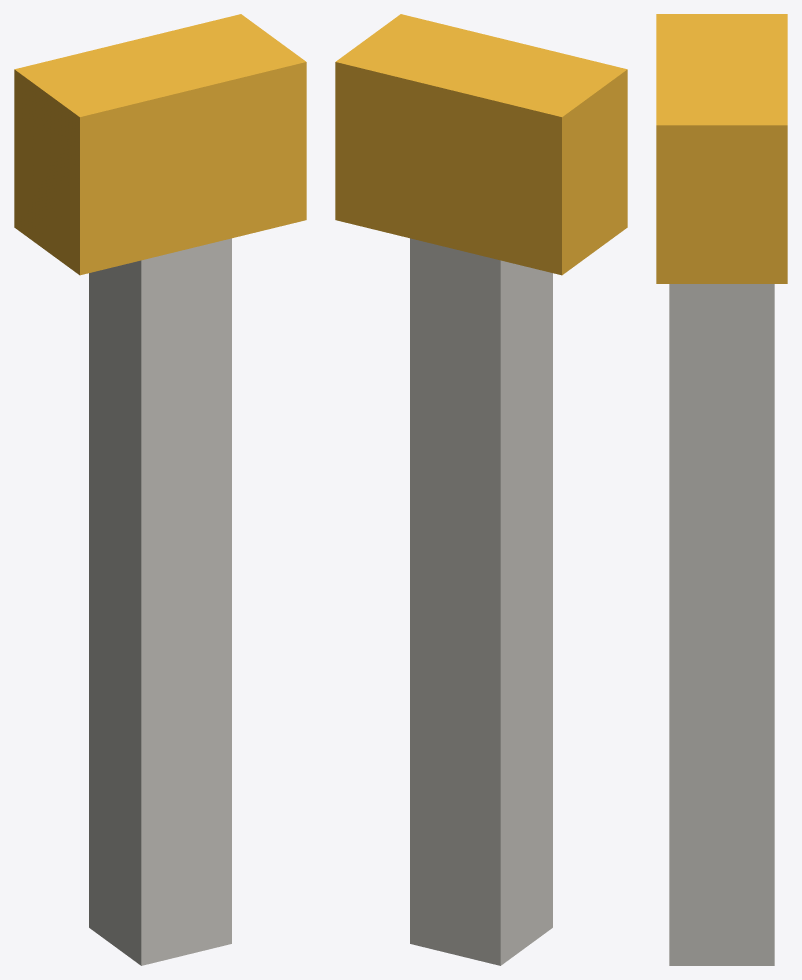
File: item_F1_Tool.glb
3 renders of one model, left to right at view 1: azimuth 30°, elevation 25°; view 2: azimuth 150°, elevation 25°; view 3: azimuth 270°, elevation 25°, orthographic.
Parts seen in each view (by area): view 1: Item_F1_Tool; view 2: Item_F1_Tool; view 3: Item_F1_Tool.
Part boxes in pixels (x1=…): Item_F1_Tool: x1=14, y1=14, x2=306, y2=965; Item_F1_Tool: x1=335, y1=14, x2=627, y2=965; Item_F1_Tool: x1=656, y1=14, x2=787, y2=965.
Size of the model in its own units: 0.06 by 0.22 by 0.03.
